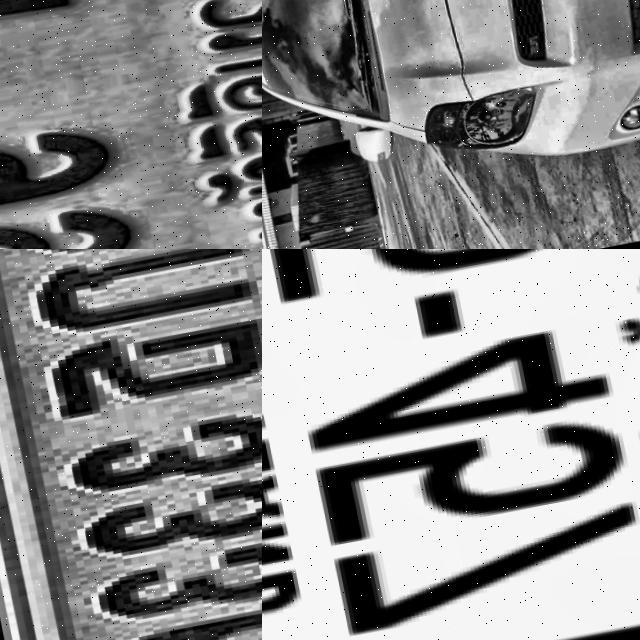license-plate: (262, 249, 640, 640), (0, 249, 262, 640), (0, 0, 262, 249)
